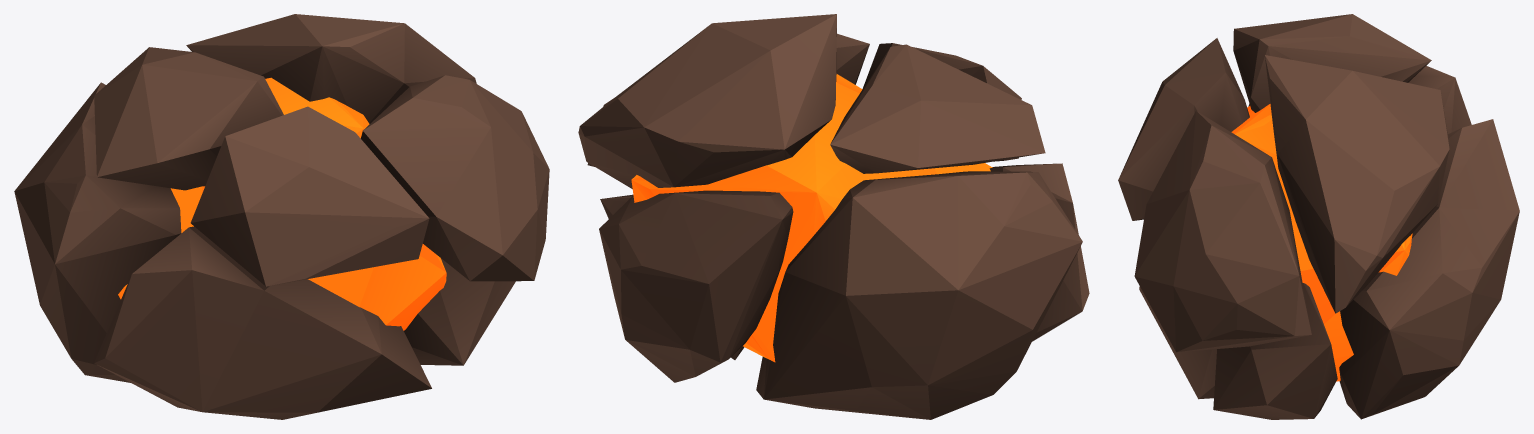
Rendered from meteor_rock.glb.
3 renders of one model, left to right at view 1: azimuth 30°, elevation 25°; view 2: azimuth 150°, elevation 25°; view 3: azimuth 270°, elevation 25°, orthographic. The views are drawn at different scales.
Parts seen in each view (by area): view 1: Base; view 2: Base; view 3: Base.
Part boxes in pixels (x1,y1,x2,y2): Base: [14, 14, 549, 419]; Base: [578, 14, 1089, 419]; Base: [1118, 14, 1519, 419].
Size of the model in its own units: 0.9687 by 0.6669 by 0.7452.
